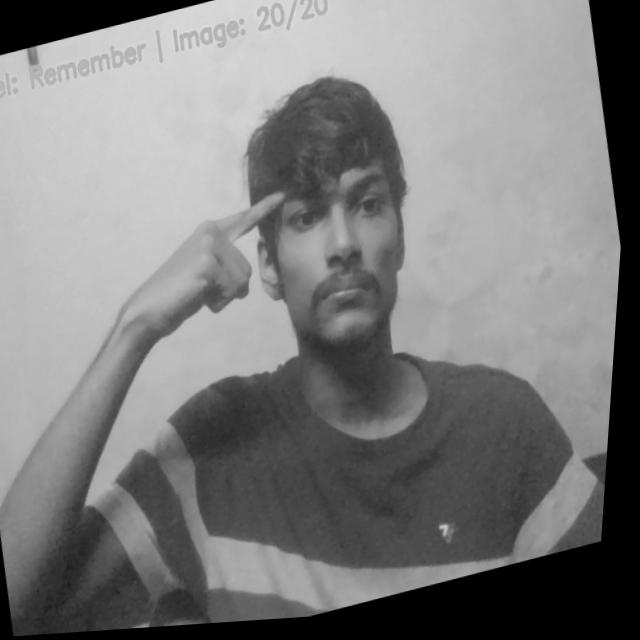Remember: (111, 189, 318, 358)
